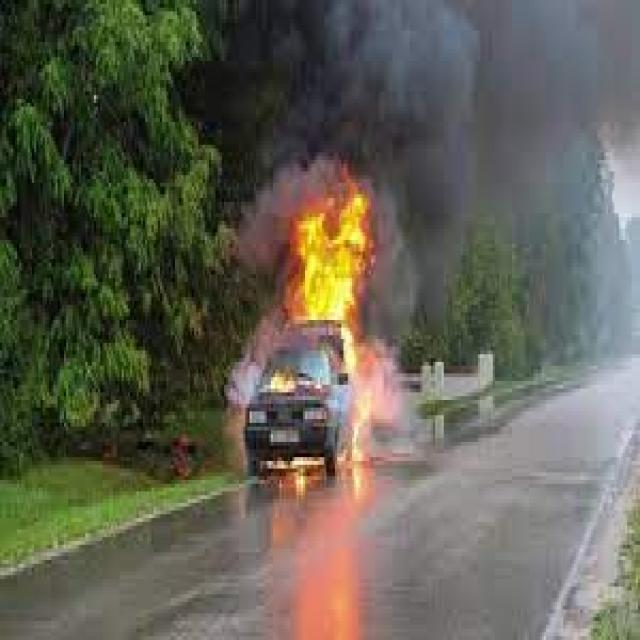fire: (294, 194, 374, 328)
smoke: (226, 4, 640, 190), (369, 190, 476, 461), (224, 168, 294, 408)
